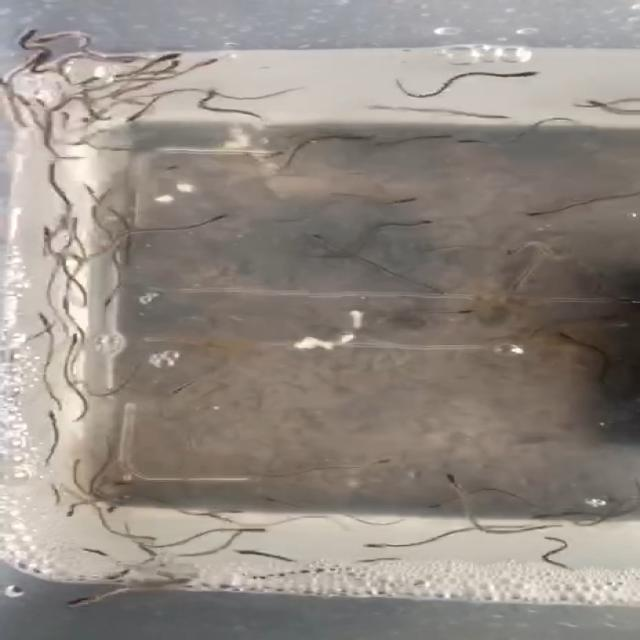inactive_glass_eel: (227, 524, 297, 542), (255, 143, 318, 161), (507, 65, 552, 89), (232, 542, 276, 566), (56, 591, 113, 609), (98, 489, 133, 518), (573, 96, 628, 114), (489, 236, 533, 258), (192, 210, 245, 228), (196, 54, 228, 82), (63, 331, 106, 351), (5, 25, 54, 42), (512, 204, 550, 224), (426, 496, 456, 521), (290, 228, 338, 243), (150, 51, 188, 69), (27, 50, 64, 68), (30, 308, 63, 328), (164, 60, 205, 76), (40, 35, 74, 54), (364, 454, 396, 474), (384, 190, 418, 208), (94, 287, 120, 310), (213, 505, 250, 521), (454, 304, 489, 320), (427, 471, 463, 486), (28, 408, 72, 420), (120, 108, 148, 124), (548, 325, 577, 340), (414, 214, 442, 229), (251, 491, 280, 505), (356, 129, 376, 148), (204, 90, 237, 101), (59, 500, 84, 514), (360, 539, 386, 552), (39, 227, 60, 238), (67, 456, 85, 466)
